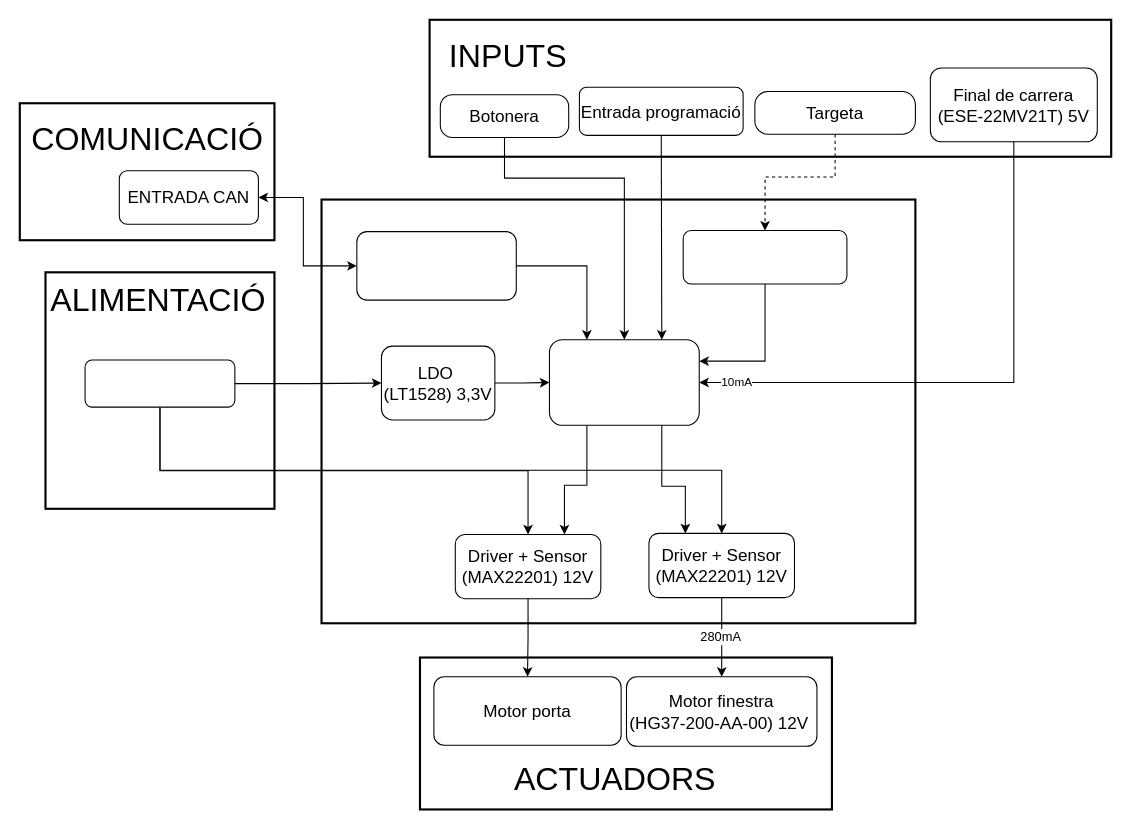
This 1130x828 diagram has some shape labels left out. The shapes that lost their labels are listed below. From the top down, each one's centre as x and y in pixels, then its label:
(436,265): Transciever CAN ( TCAN341x ) 3,3V
(764,257): Lector/Driver RFID
(159,383): BATERIA DE 12V
(623,382): Microcontrolador (PIC32) 3,3V | 200mA | 8MHz
